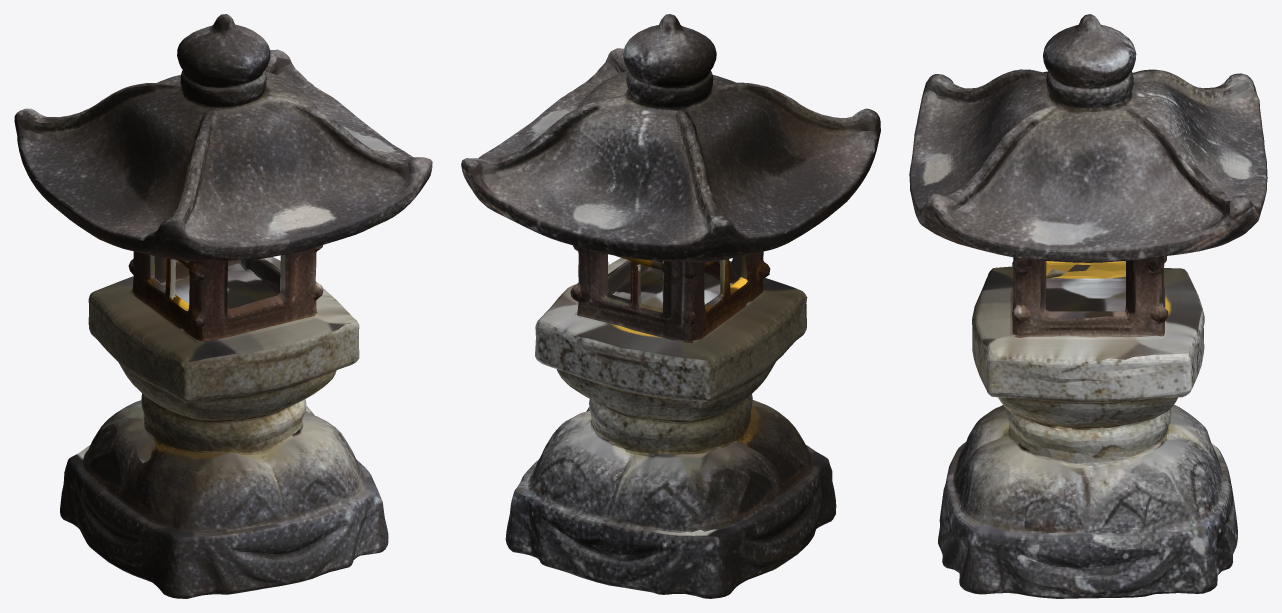
The model's file is traveler_env_coast_castle_kaiu_lantern_00001_.glb.
3 views of the same model, side by side, from view 1: azimuth 30°, elevation 25°; view 2: azimuth 150°, elevation 25°; view 3: azimuth 270°, elevation 25° (orthographic). The views are drawn at different scales.
Visible parts, largest first — view 1: temp_mesh.ply; view 2: temp_mesh.ply; view 3: temp_mesh.ply.
Boxes of the visible parts, <box> form: temp_mesh.ply: <box>14,14,432,598</box>; temp_mesh.ply: <box>461,14,880,598</box>; temp_mesh.ply: <box>909,14,1267,598</box>.
Size of the model in its own units: 1.22 by 1.95 by 1.2.
Materials: 1 (1 with a texture image).
